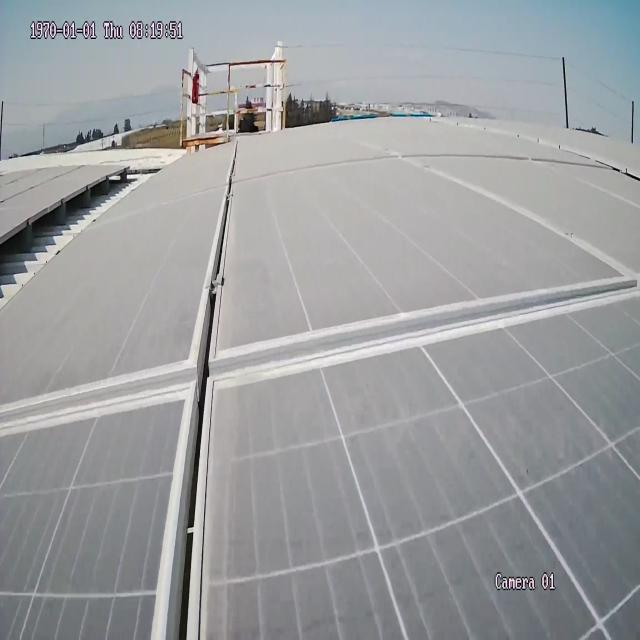interior panel: (1, 146, 632, 639)
outher panel: (1, 155, 184, 315)
